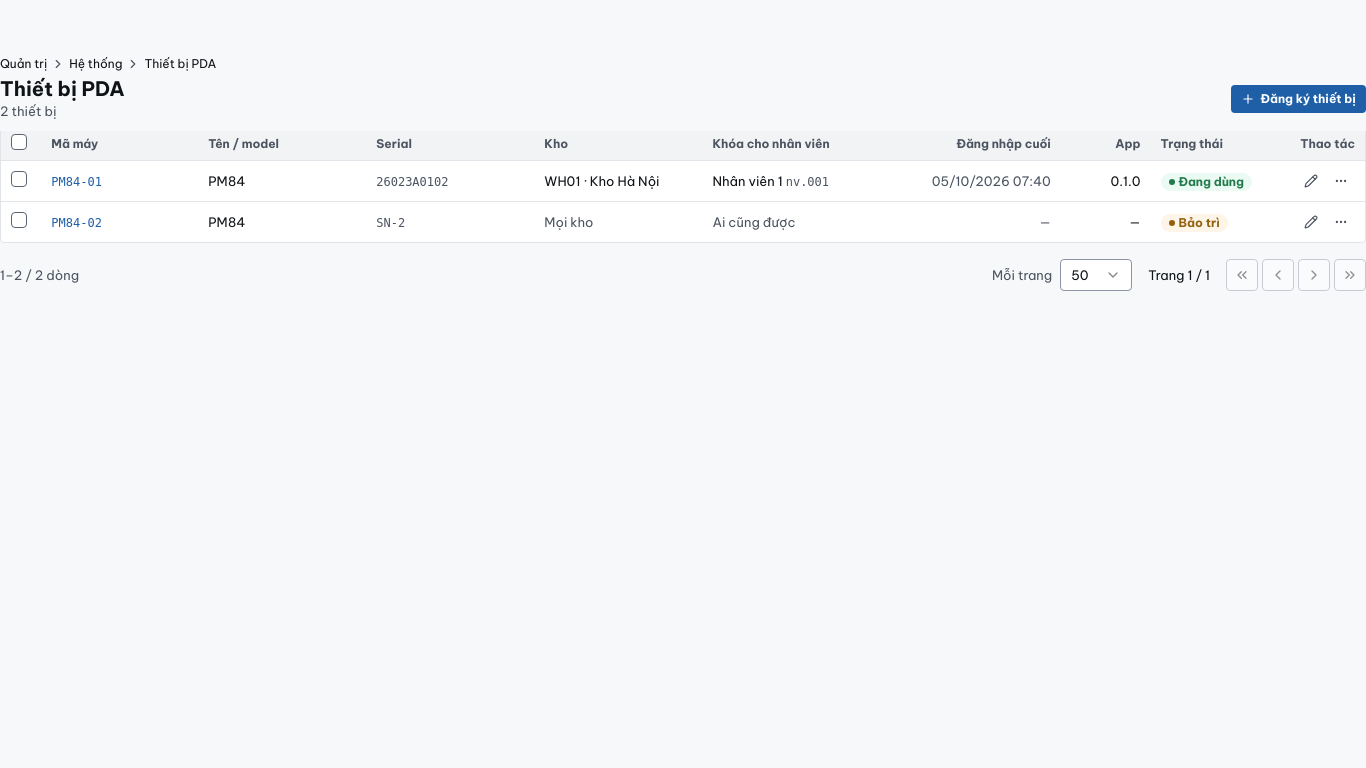
Test case: PdaDevicesScreen — Thiết bị PDA › Đăng ký trùng serial → 409 báo ngay dưới ô Serial, dialog giữ nguyên
The image size is (1366, 768).
Expected: the text "PM84-01" is shown, [51, 174, 102, 188]
Step 1. Click the button "Đăng ký thiết bị" → click(1298, 98), box [1231, 84, 1365, 112]
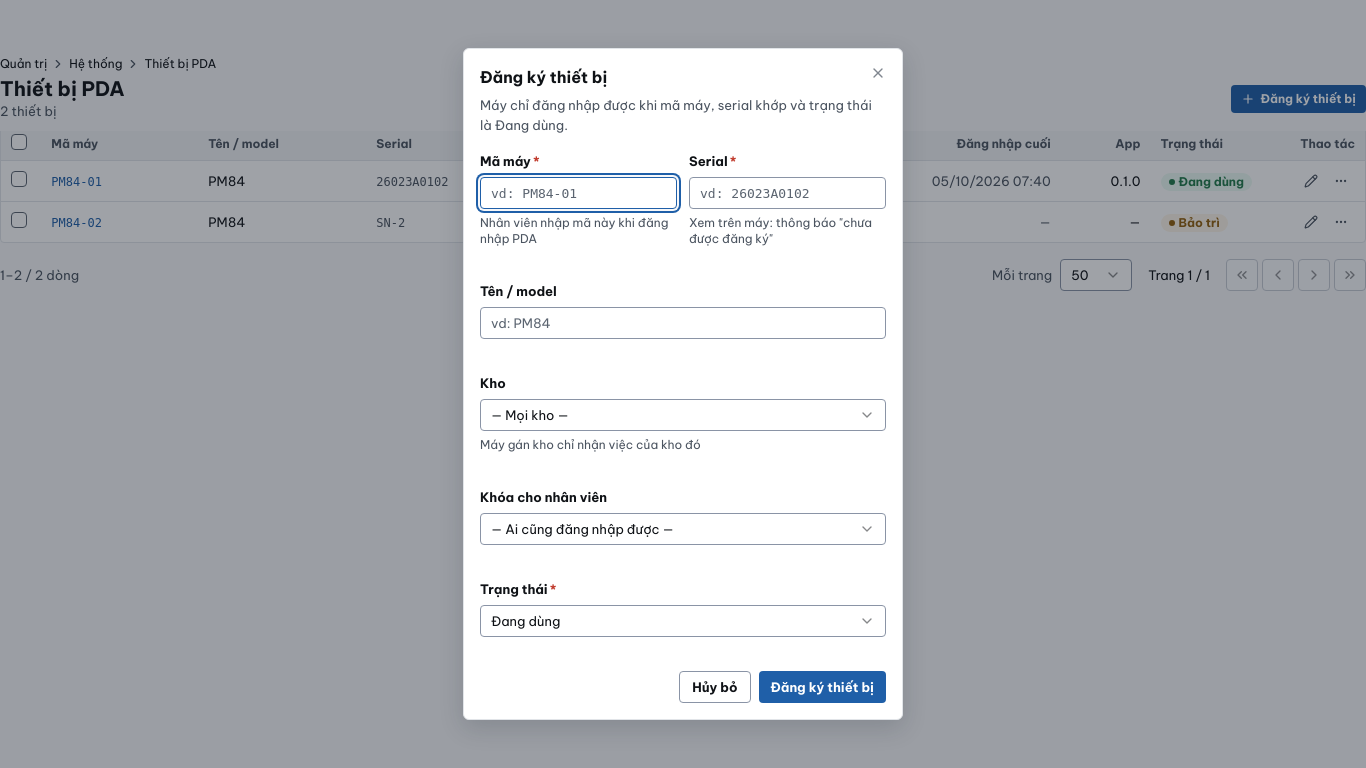
Step 2. Type "PM84-09" into the field labelled "Mã máy*" → (578, 193), box [480, 177, 677, 209]
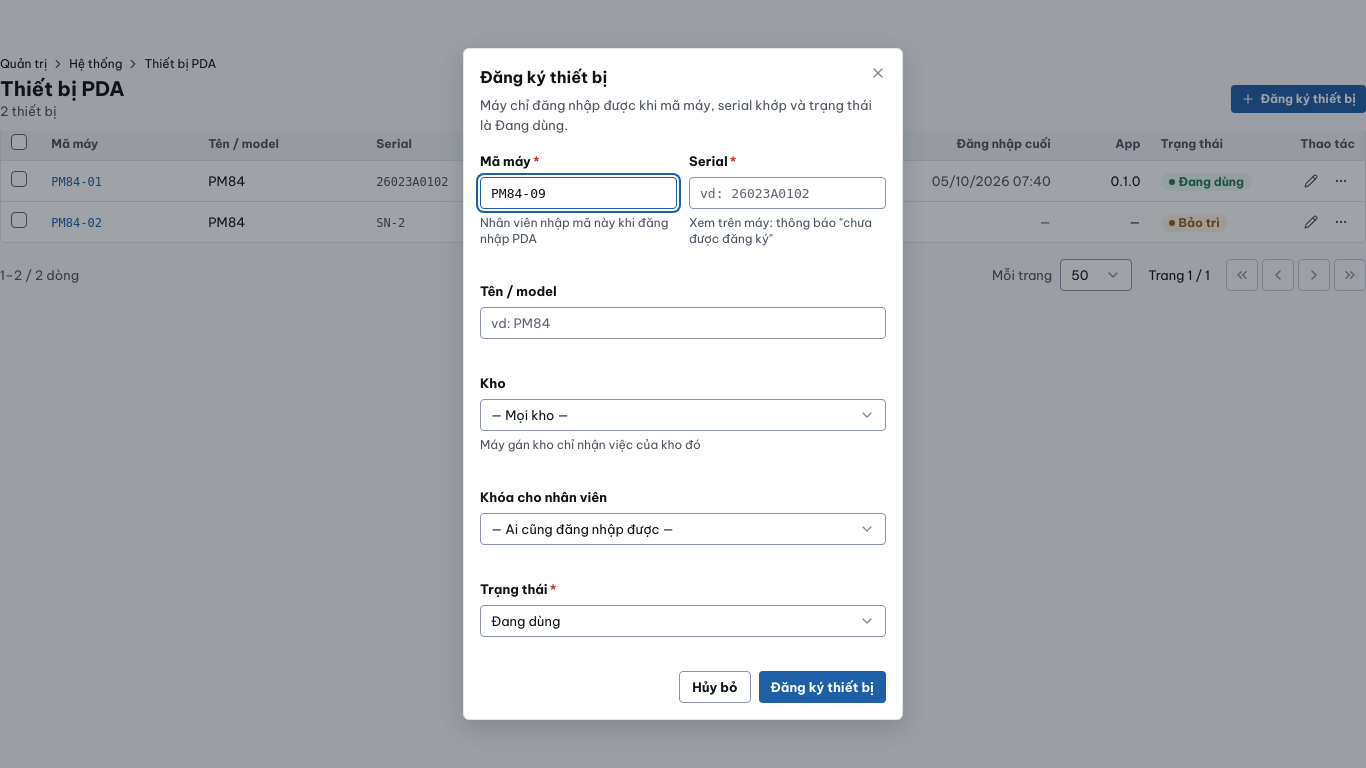
Step 3. Type "26023A0102" into the field labelled "Serial*" → (788, 193), box [689, 177, 886, 209]
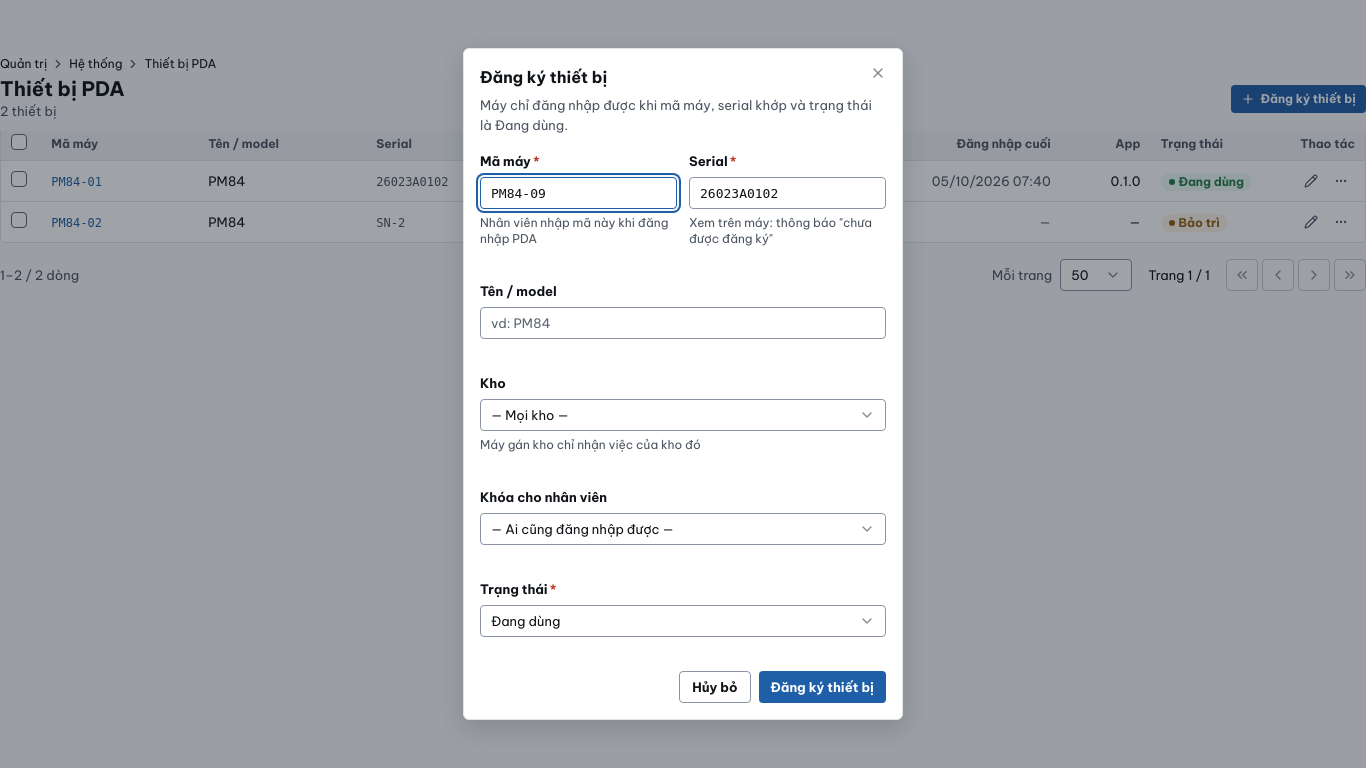
Step 4. Click the button "Đăng ký thiết bị" → click(822, 687), box [759, 671, 886, 703]
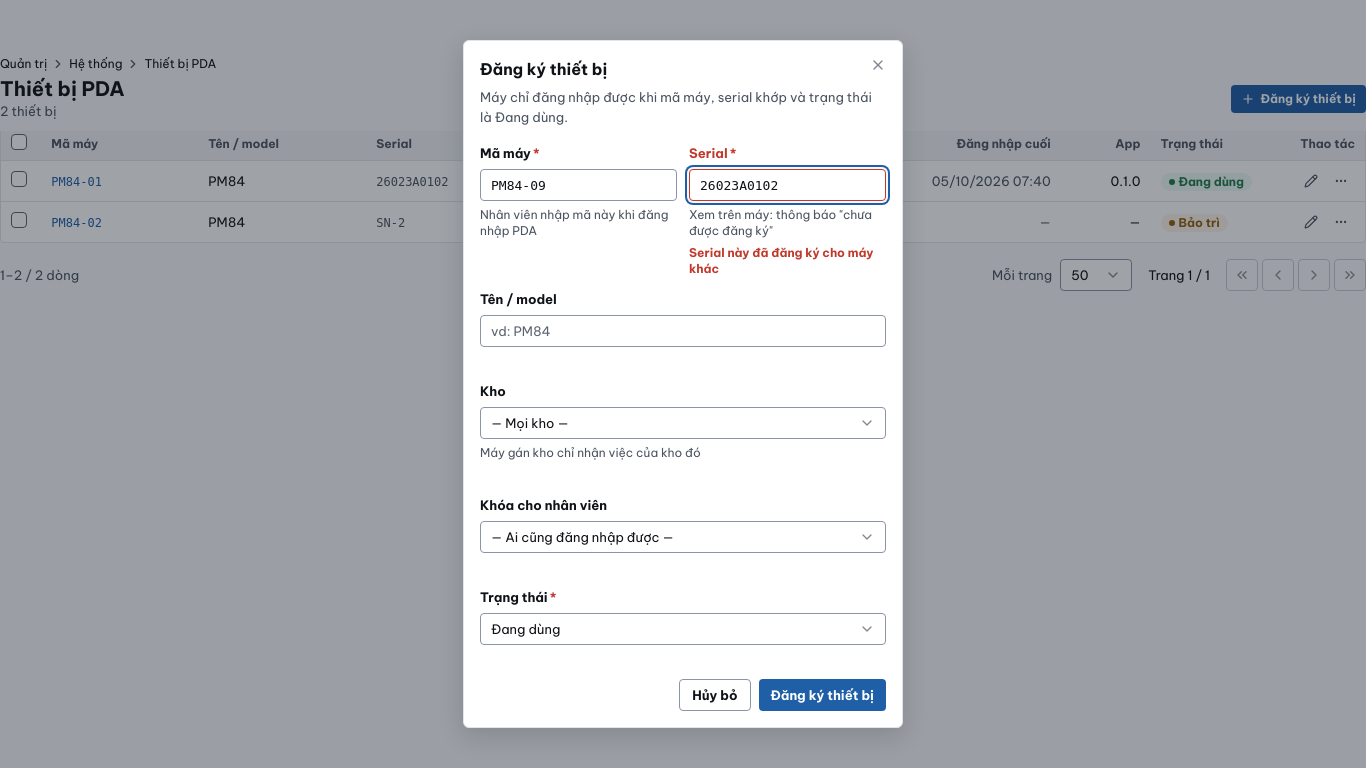
Expected: the text "Serial này đã đăng ký cho máy khác" is shown, [689, 245, 886, 277]
